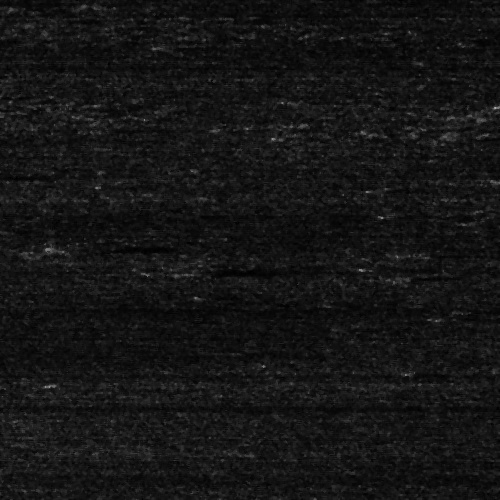object: (130, 264, 245, 277), (37, 243, 78, 248)
shadow: (188, 264, 329, 277), (0, 173, 45, 178), (58, 243, 90, 248)
